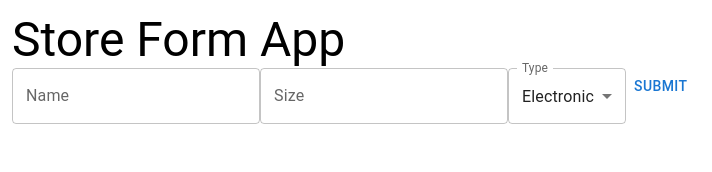
Scenario: Create product page › form validations › should show the name field is requied when the user clicks on submit
expect the field labelled "Name" is empty: met, box [12,68,260,124]
Click the button "Submit" at (661, 86), box [626,68,695,104]
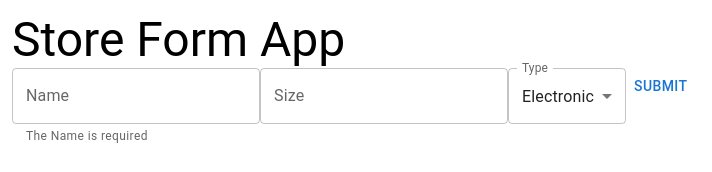
expect the text "The Name is required" is shown: met, box [26,129,148,143]
